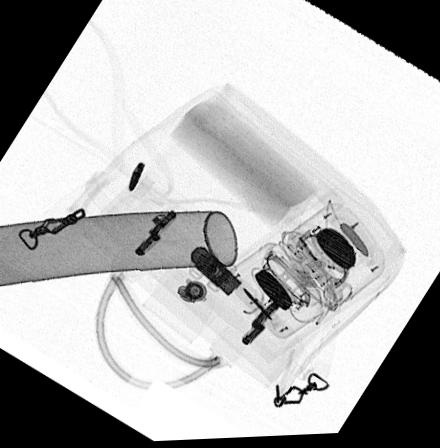Sprayer: (0, 209, 239, 286)
